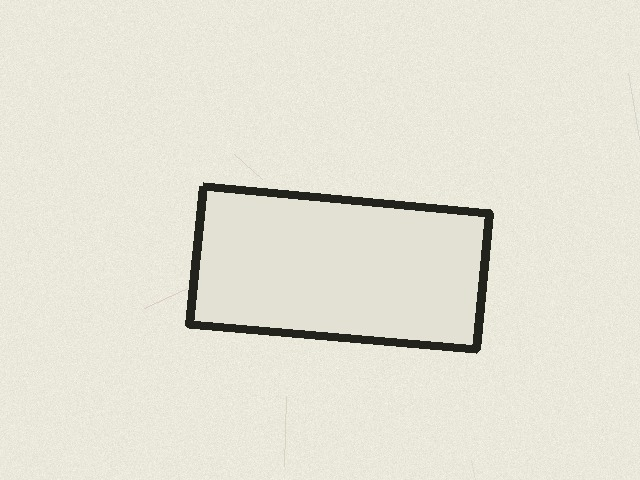parking_area: (189, 186, 489, 349)
